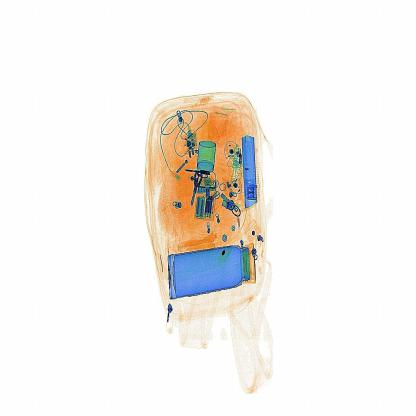pliers: (232, 123, 267, 214)
